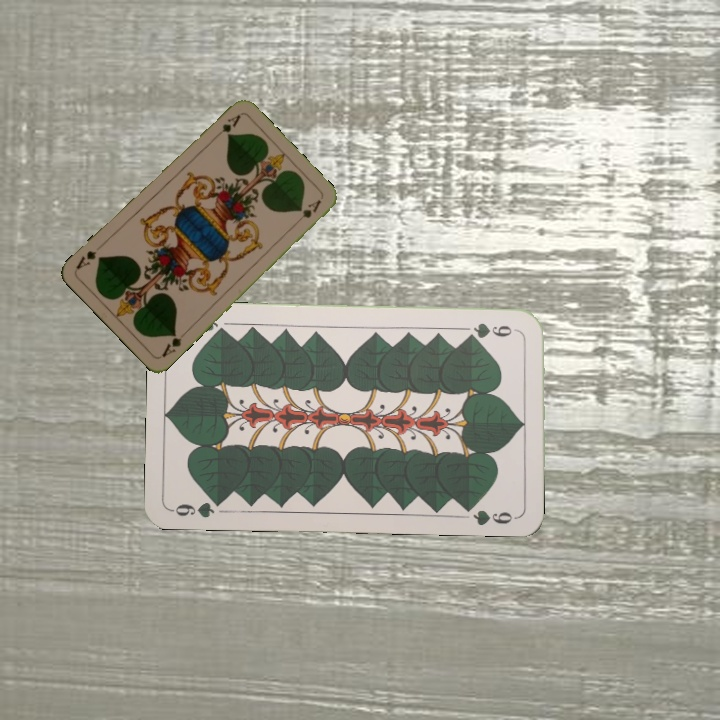G9: (168, 495, 228, 521), (462, 318, 521, 341)
GA: (157, 327, 190, 360), (209, 111, 243, 142)
